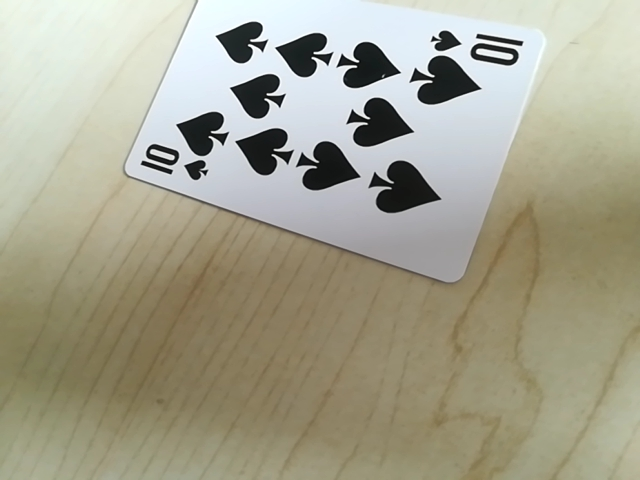ht 10: (424, 23, 531, 65), (134, 147, 213, 186)
